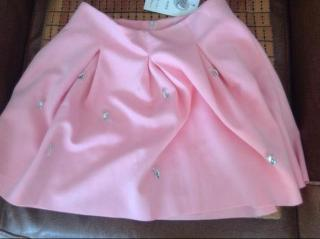skirt: (0, 0, 309, 221)
